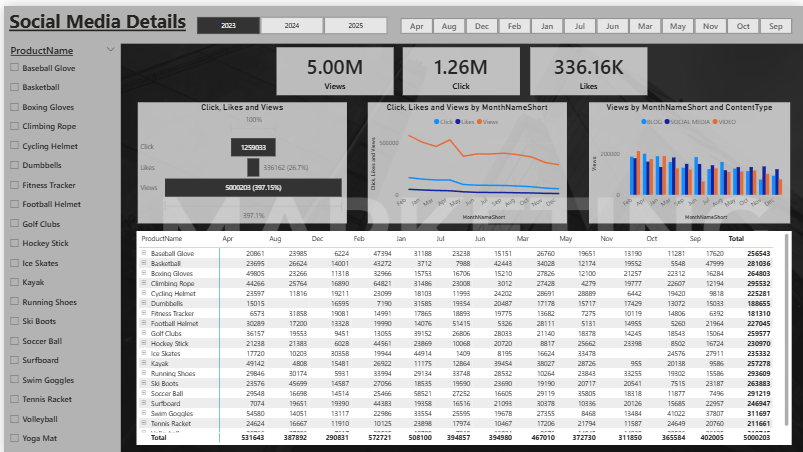

The page's visual inventory and layout, read from the dashboard file:
{"tool":"powerbi","page":{"name":"Social Media Details","canvas":[1600,900],"ordinal":2},"visuals":[{"type":"slicer","fields":{"Values":["products.ProductName"]},"box":[0,68.8,233.5,831.2],"z":0},{"type":"shape","box":[0,0,1600,75],"z":1000},{"type":"textbox","box":[0,0,374,76],"z":2000},{"type":"slicer","fields":{"Values":["Calendar.Year"]},"box":[360,16,430,48],"z":3000},{"type":"slicer","fields":{"Values":["Calendar.MonthNameShort"]},"box":[768,18,832,42],"z":4000},{"type":"lineChart","fields":{"Category":["Calendar.MonthNameShort"],"Y":["Calculation.Click","Calculation.Likes","Calculation.Views"]},"box":[728,192,398,242],"z":5000},{"type":"funnel","fields":{"Y":["Calculation.Click","Calculation.Likes","Calculation.Views"]},"box":[268,192,418,242],"z":6000},{"type":"pivotTable","fields":{"Rows":["products.ProductName","engagement_data.ContentType"],"Values":["Calculation.Views"],"Columns":["Calendar.MonthNameShort"]},"box":[264,450,1310,428],"z":7000},{"type":"clusteredColumnChart","fields":{"Category":["Calendar.MonthNameShort"],"Y":["Calculation.Views"],"Series":["engagement_data.ContentType"]},"box":[1170,192,402,242],"z":8000},{"type":"card","fields":{"Values":["Calculation.Views"]},"box":[544,81.6,234,96],"z":9000},{"type":"card","fields":{"Values":["Calculation.Click"]},"box":[798,82,234,96],"z":10000},{"type":"card","fields":{"Values":["Calculation.Likes"]},"box":[1052,82,234,96],"z":11000}]}

Visuals, with their boxes in screenshot pixels (x1, y1, x2, y2), scaled from the page's 1600x900 canvas onto the 803x452 screenshot:
slicer - products.ProductName: {"x1": 0, "y1": 35, "x2": 117, "y2": 451}
shape: {"x1": 0, "y1": 0, "x2": 802, "y2": 38}
textbox: {"x1": 0, "y1": 0, "x2": 188, "y2": 38}
slicer - Calendar.Year: {"x1": 181, "y1": 8, "x2": 396, "y2": 32}
slicer - Calendar.MonthNameShort: {"x1": 385, "y1": 9, "x2": 802, "y2": 30}
lineChart - Calendar.MonthNameShort x Calculation.Click: {"x1": 365, "y1": 96, "x2": 565, "y2": 218}
funnel - Calculation.Click x Calculation.Likes: {"x1": 135, "y1": 96, "x2": 344, "y2": 218}
pivotTable - products.ProductName x engagement_data.ContentType: {"x1": 132, "y1": 226, "x2": 790, "y2": 441}
clusteredColumnChart - Calendar.MonthNameShort x Calculation.Views: {"x1": 587, "y1": 96, "x2": 789, "y2": 218}
card - Calculation.Views: {"x1": 273, "y1": 41, "x2": 390, "y2": 89}
card - Calculation.Click: {"x1": 400, "y1": 41, "x2": 518, "y2": 89}
card - Calculation.Likes: {"x1": 528, "y1": 41, "x2": 645, "y2": 89}
